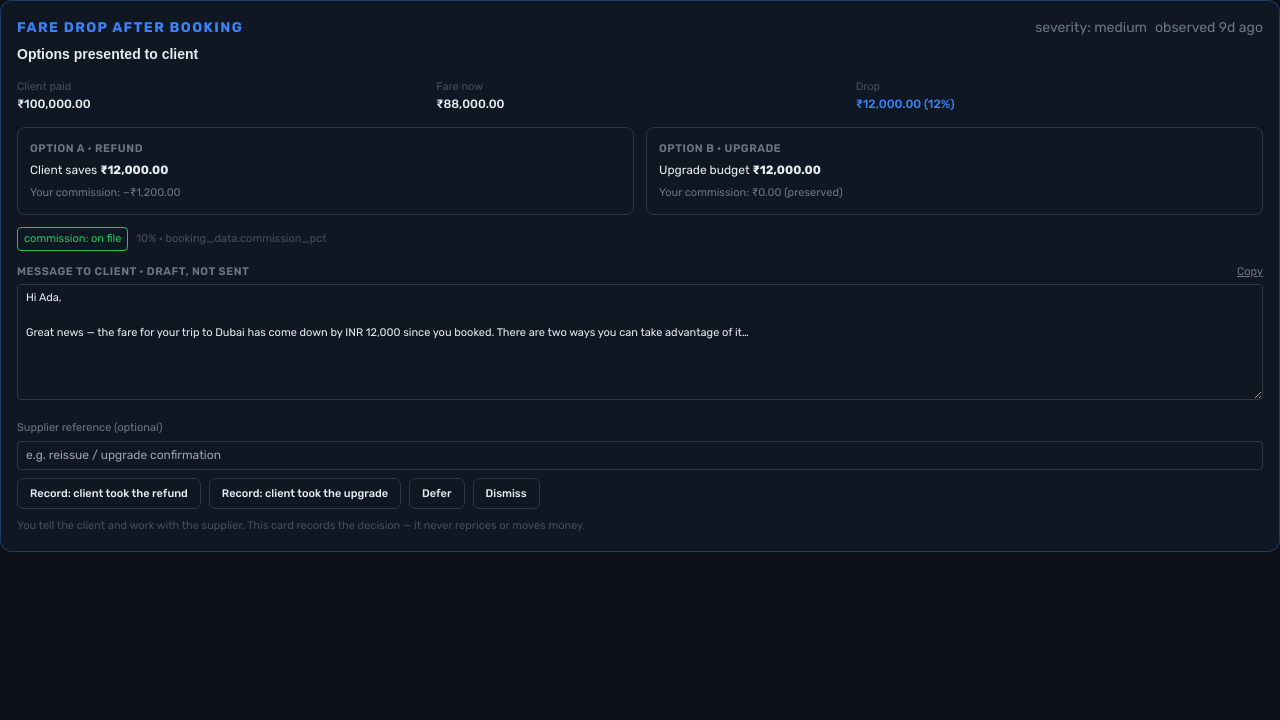
Test: FareDropDecisionCard › records the refund decision with the client delta and supplier reference
Check: the button with test id "fare-drop-action-repriced" is shown, box x1=17 y1=478 x2=201 y2=510
Type "RB-9" into the field with test id "fare-drop-supplier-reference".
click(640, 455); type("RB-9")  # box x1=17 y1=441 x2=1263 y2=470
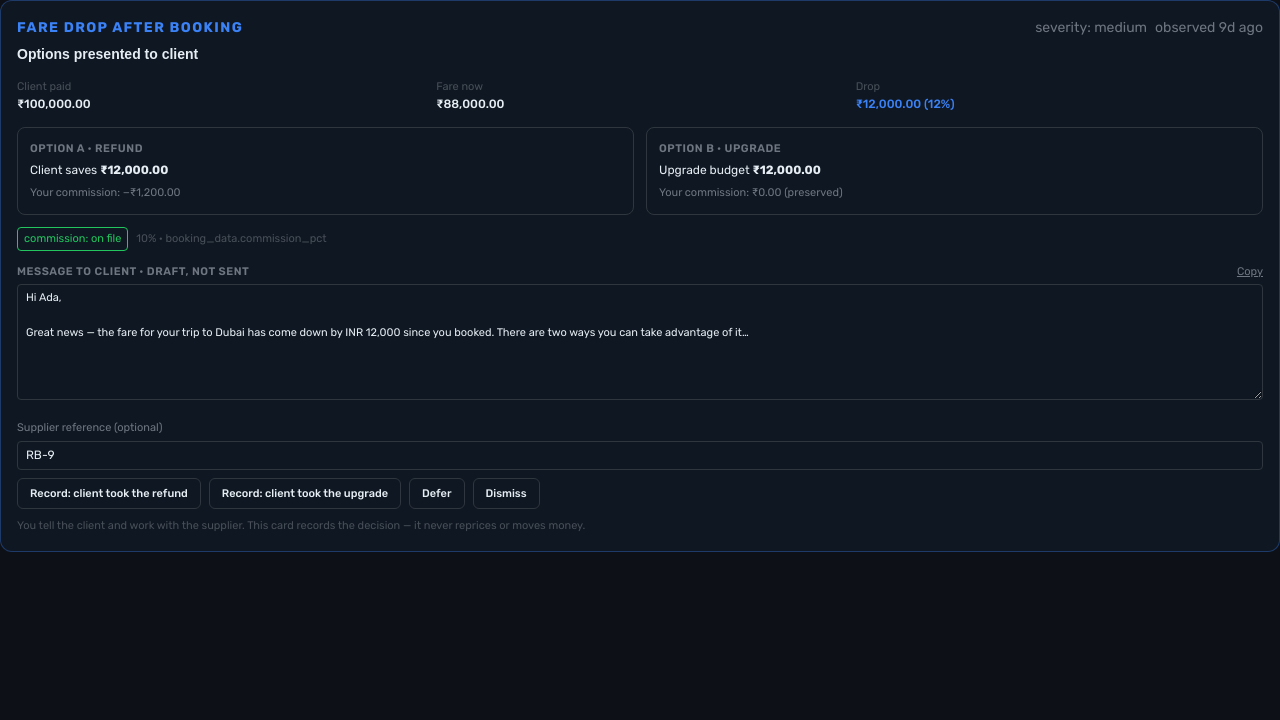
Click the button with test id "fare-drop-action-repriced".
click(109, 494)  # box x1=17 y1=478 x2=201 y2=510
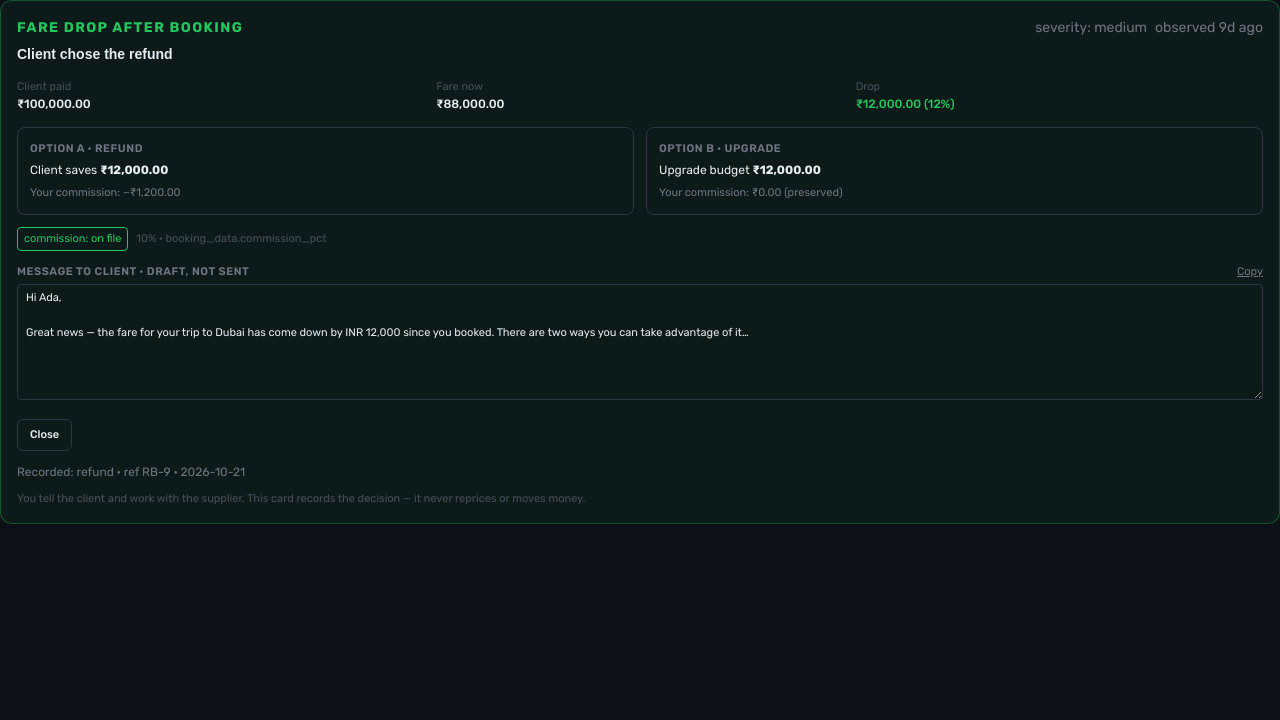
Check: the text with test id "fare-drop-outcome" reads "Recorded: refund · ref RB-9 · 2026-10-21", box x1=17 y1=465 x2=245 y2=479
